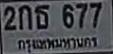2: (3, 5, 15, 29)
6: (62, 3, 73, 27)
7: (89, 2, 101, 28), (75, 3, 87, 28)
A01: (18, 4, 31, 29)
A24: (34, 4, 49, 28)
BKK: (15, 34, 101, 52)
